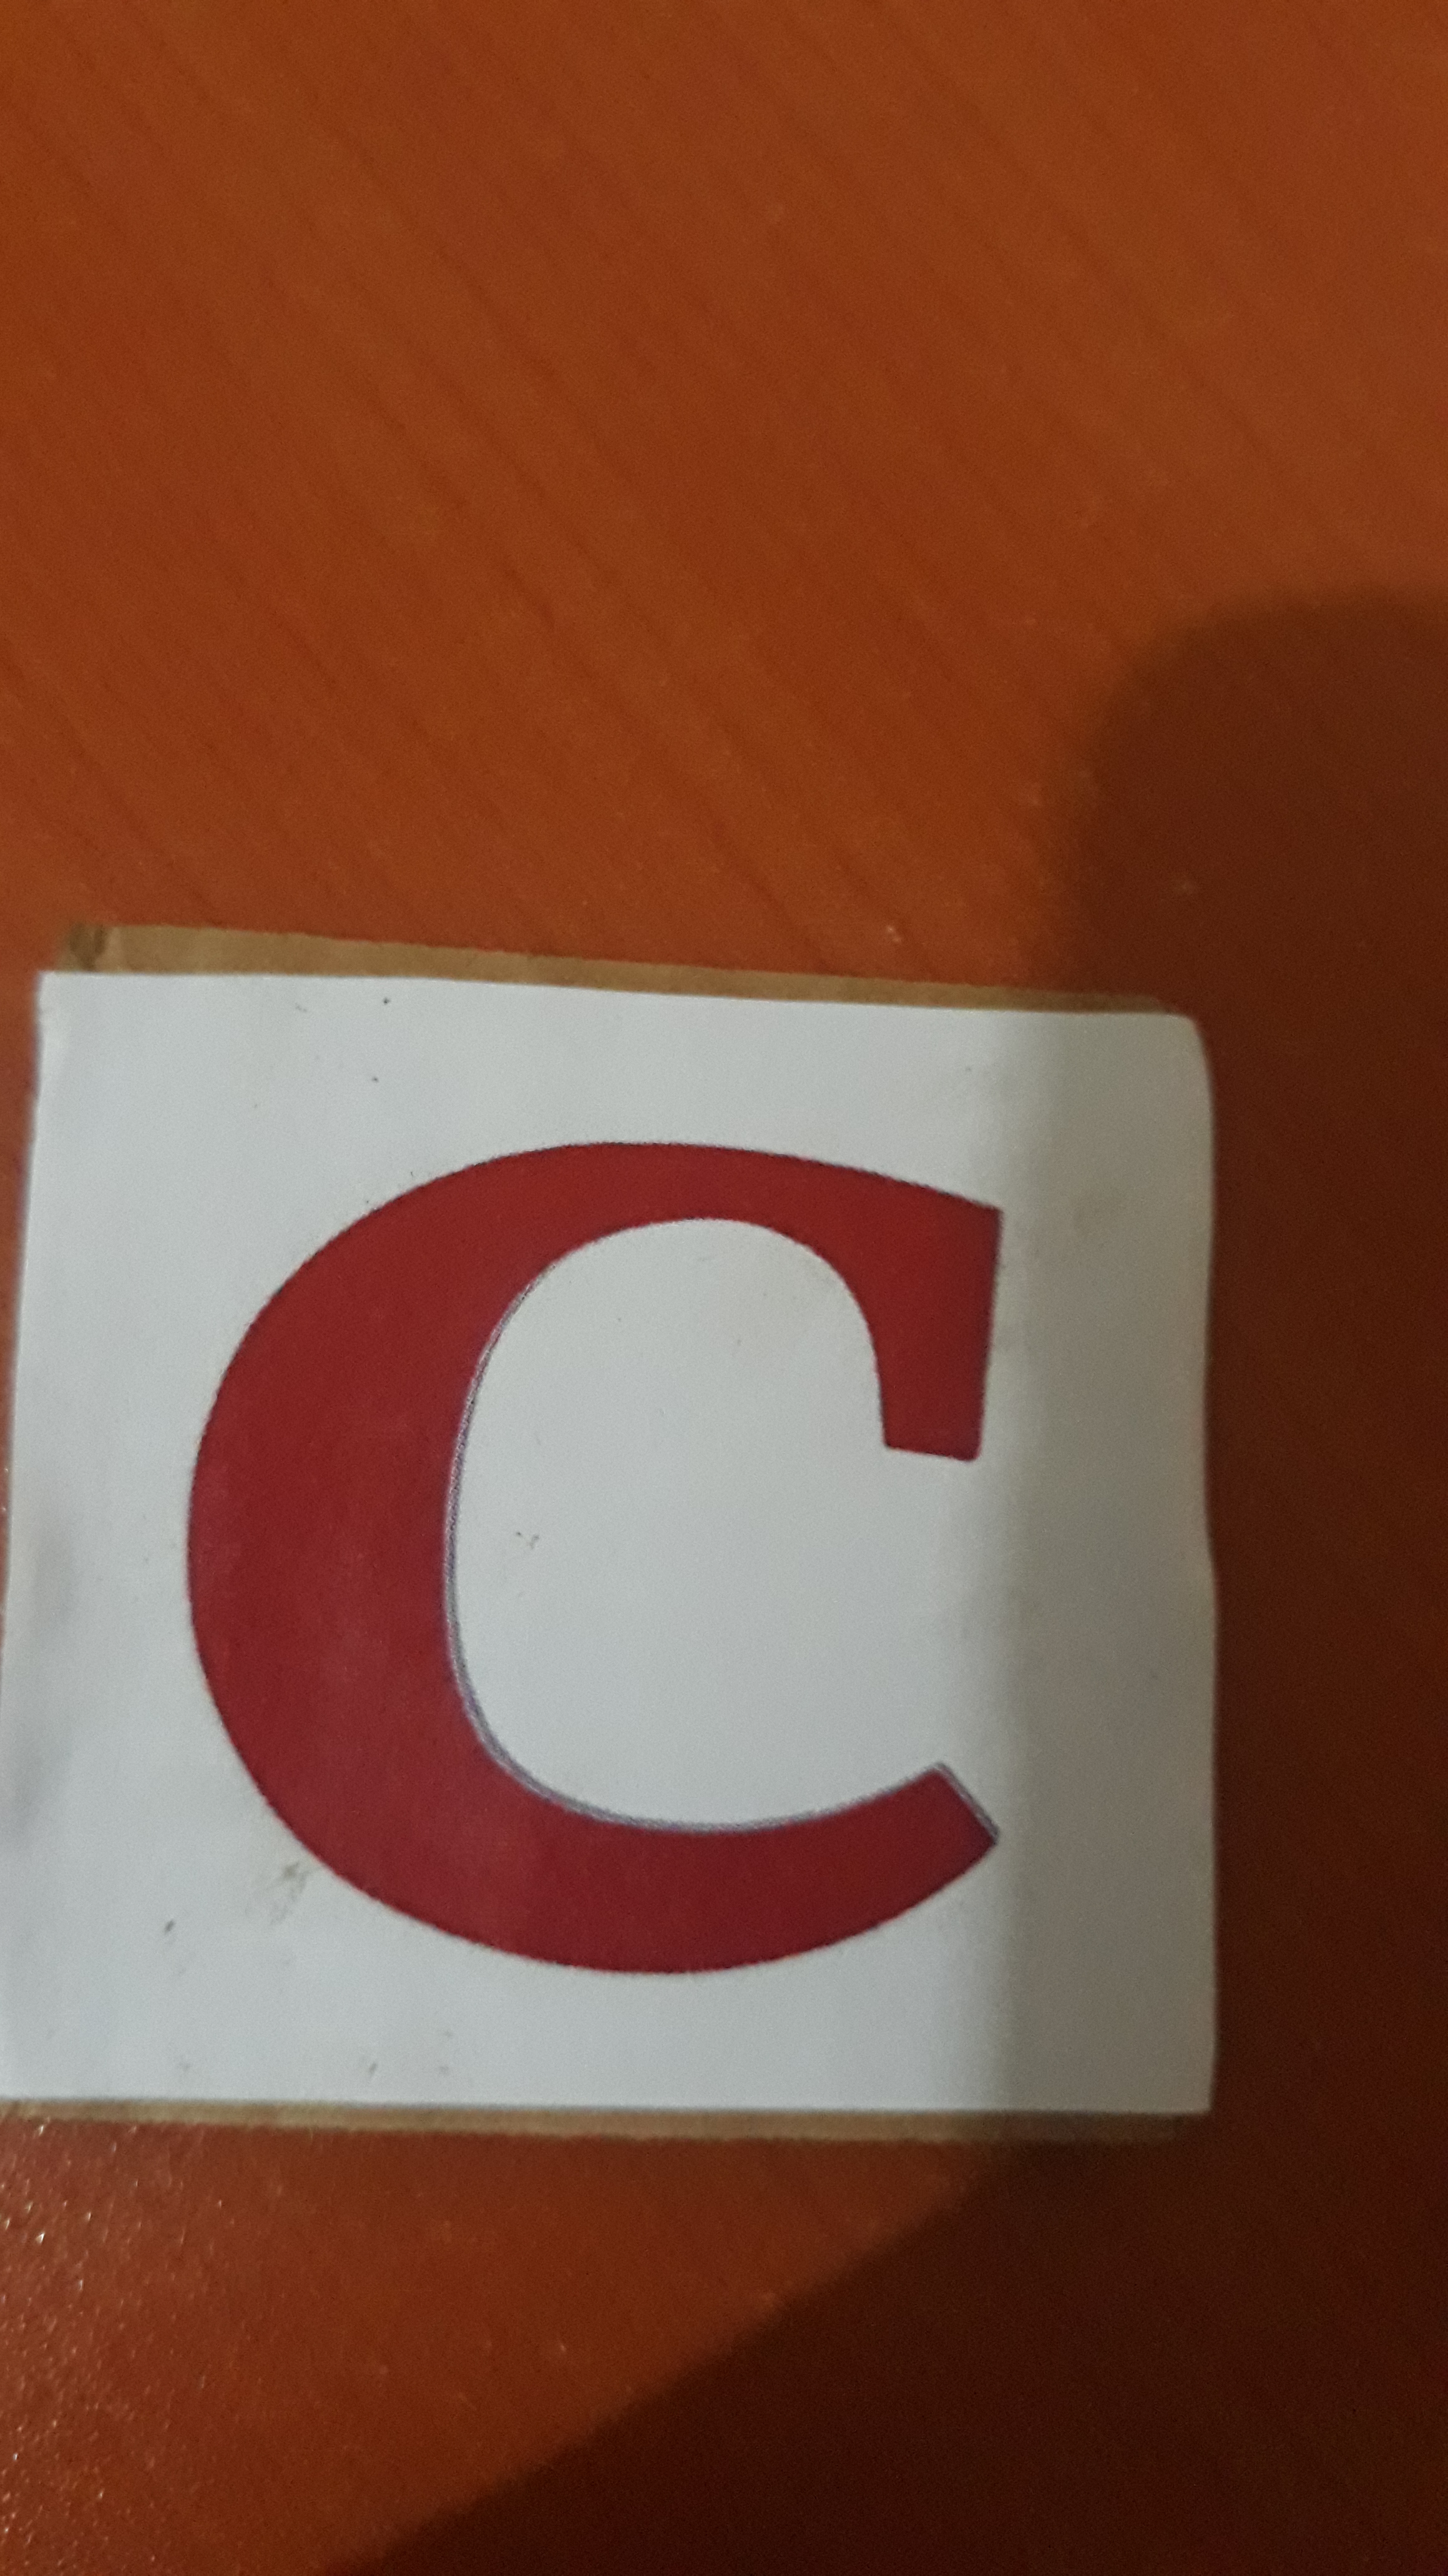zone C: (150, 1077, 1064, 2006)
